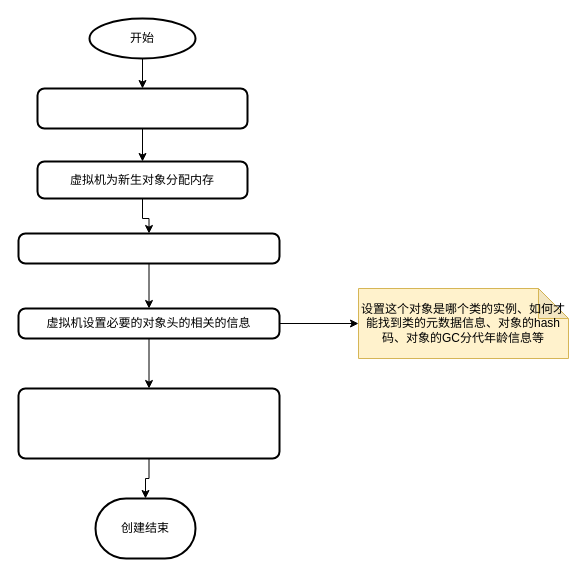
This 586x576 diagram has some shape labels left out. Here are the shapes that lost their labels. From the top down, the centre of each, then its label:
the point at 142,108: 检查该类是否已经被加载过，如果没有被加载过，先执行类加载的逻辑
the point at 148,248: 虚拟机将分配到的内存对象都初始化为零值
the point at 148,423: 执行初始化方法<init>注意这里的<init>方法不同于<cinit>方法，<cinit>是构造类加载器的，<init>是真正构造方法的
